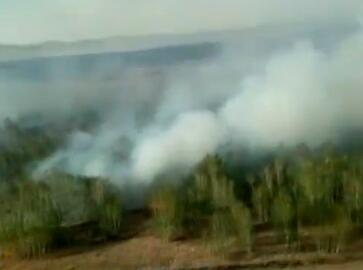yanwu: (29, 25, 362, 186)
